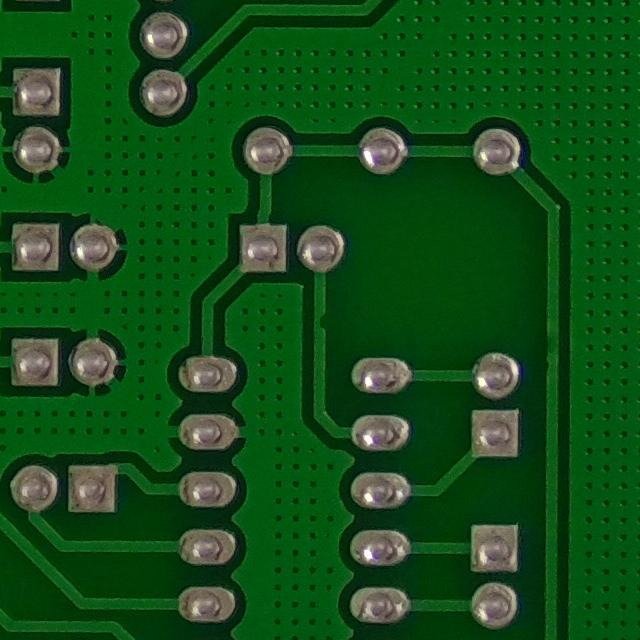mouse_bite: (308, 304, 333, 336)
